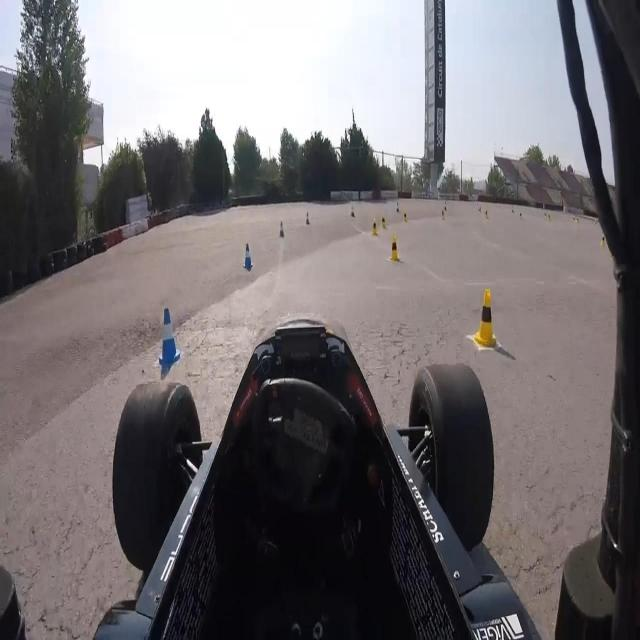blue_cone: (157, 307, 181, 366), (242, 242, 254, 273), (278, 219, 286, 241), (304, 210, 311, 227), (350, 203, 355, 220), (396, 200, 401, 214)
yellow_cone: (473, 287, 499, 351), (389, 233, 402, 262), (599, 230, 607, 252), (380, 213, 387, 232), (371, 218, 378, 236), (402, 208, 408, 223), (441, 209, 445, 220)
